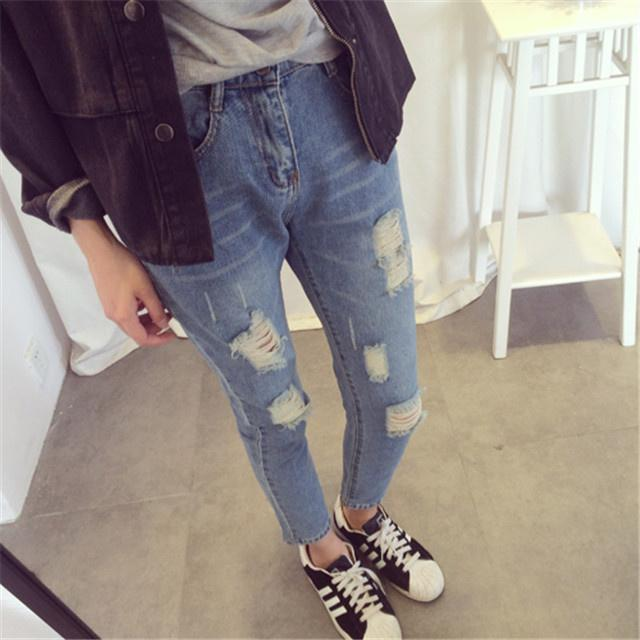trousers: (92, 22, 419, 546)
